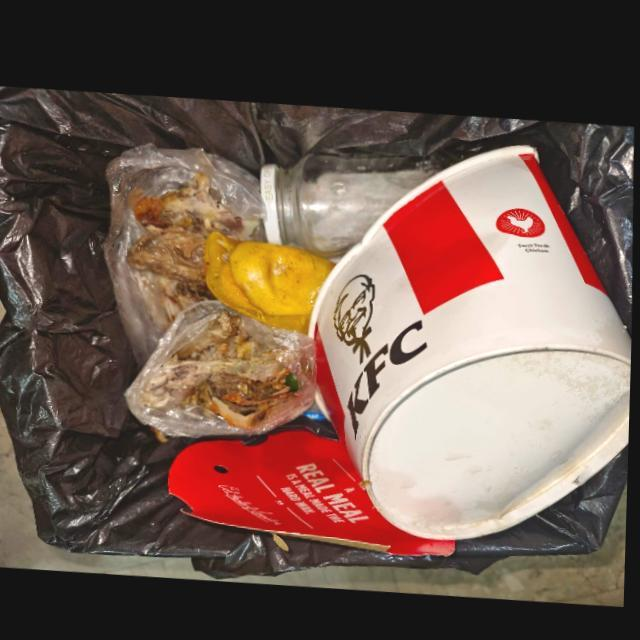biowaste: (128, 168, 266, 323), (164, 308, 302, 424), (205, 227, 335, 326)
glass: (260, 158, 429, 255)
paper: (316, 133, 633, 530), (169, 418, 467, 547)
plastic: (104, 138, 270, 366), (126, 296, 318, 431)
